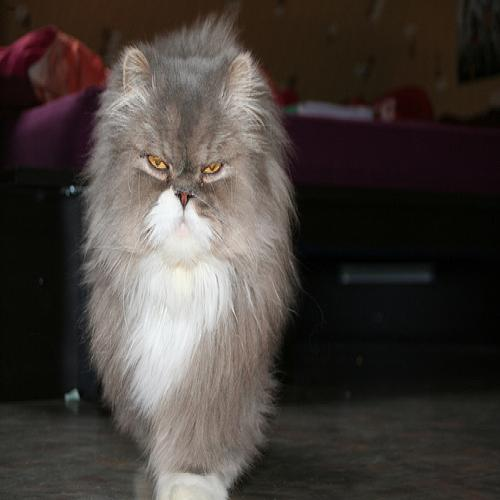persian: (110, 41, 268, 281)
